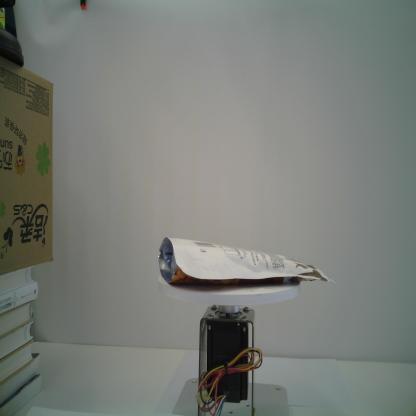Dried Fruit: (157, 236, 337, 286)
